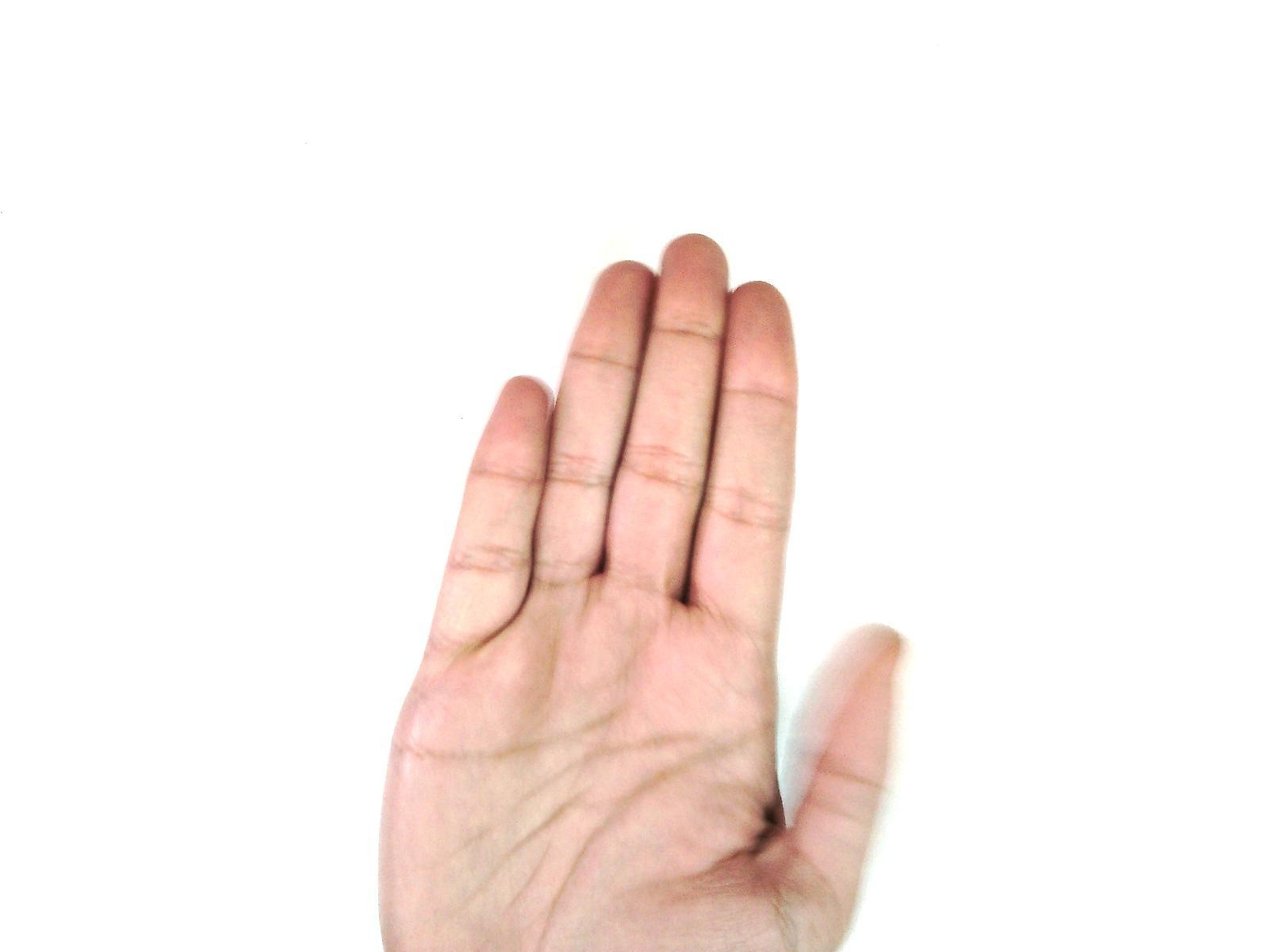open_palm: (374, 232, 910, 951)
